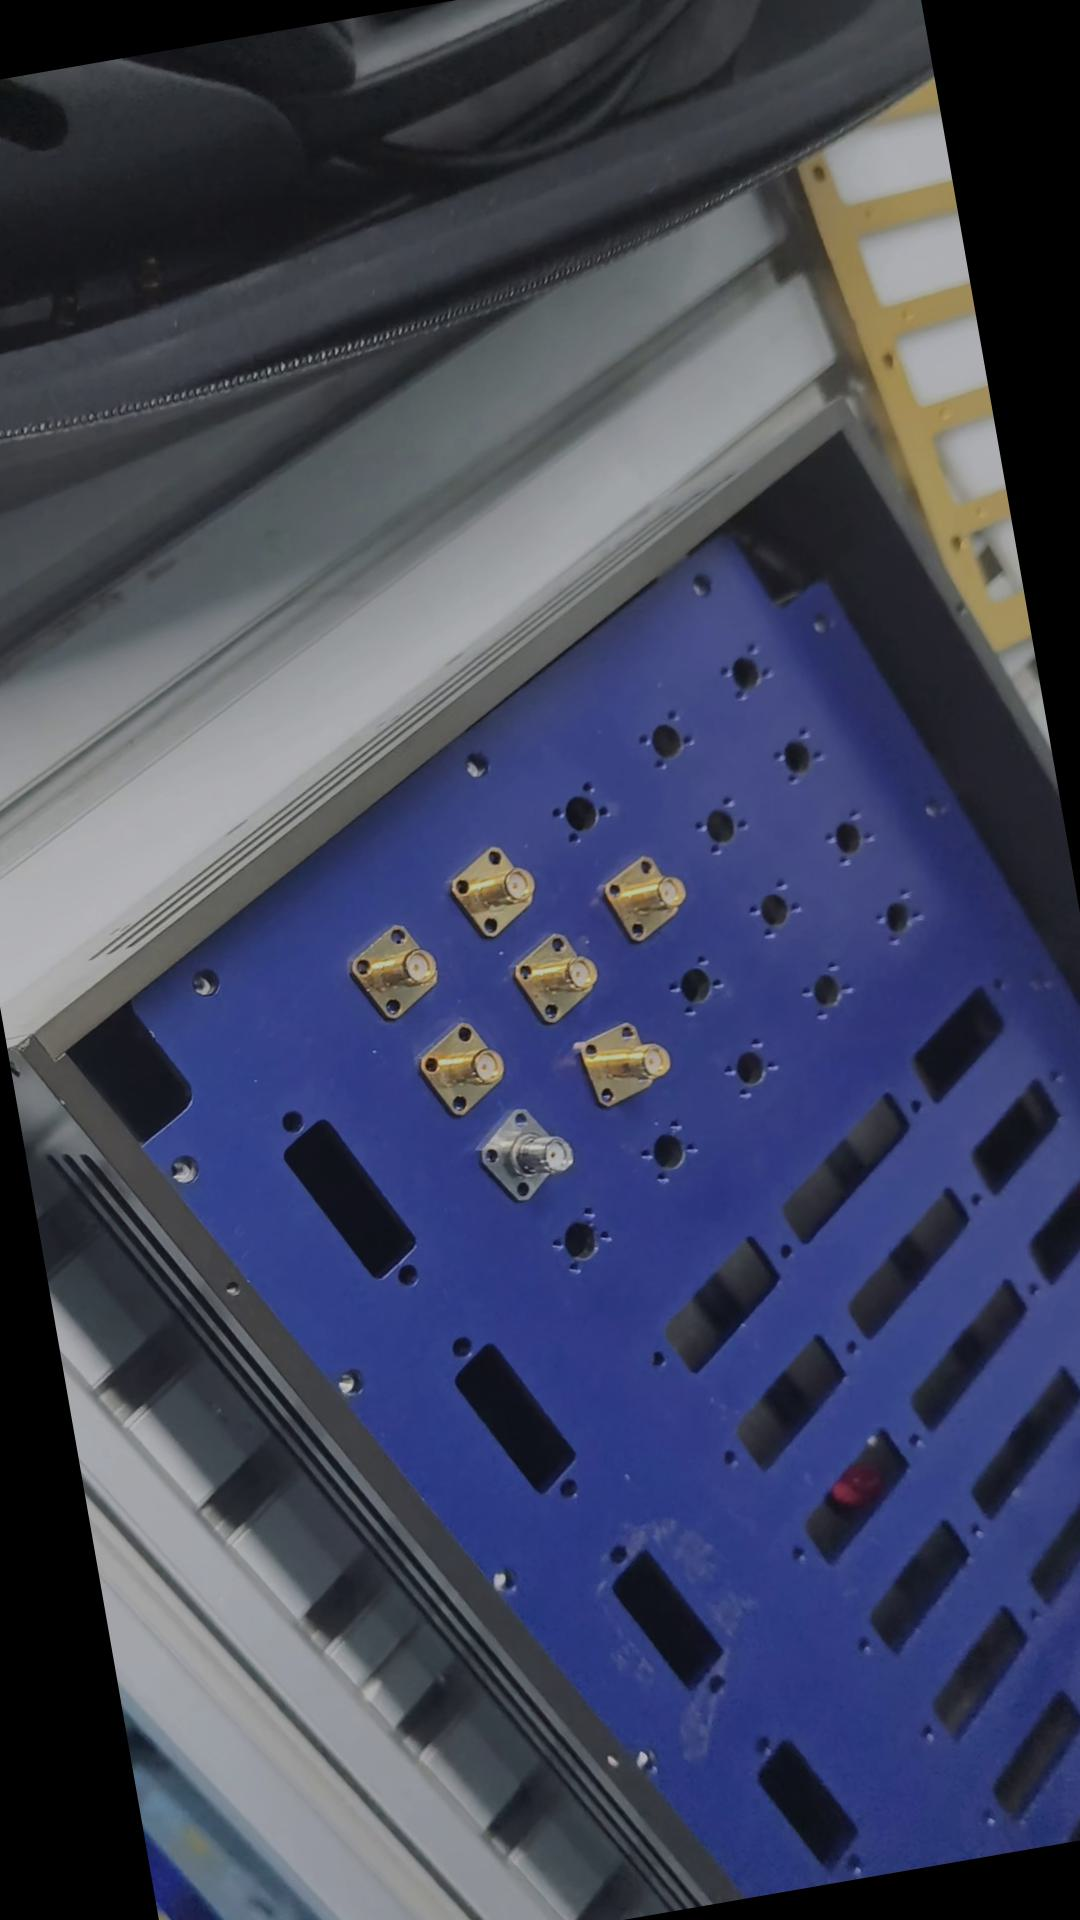SMA: (465, 1093, 583, 1211), (334, 909, 448, 1027), (407, 1007, 524, 1122), (505, 924, 613, 1033), (447, 837, 549, 939), (597, 848, 698, 951), (574, 1018, 673, 1110)
